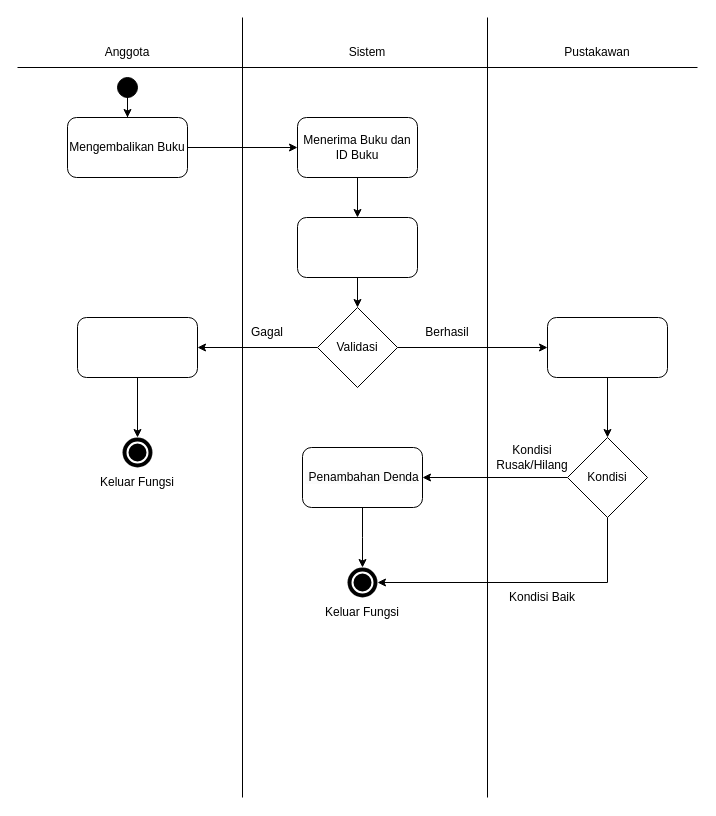
The diagram is 716 pixels wide and 816 high, and some of its shapes have lost their labels. Here are the shapes that lost their labels. From the top down, the centre of each, then its label:
point 357,247: Pengecekan ID Buku
point 137,347: Melihat Notifikasi Gagal Validasi
point 607,347: Memeriksa Kondisi Buku
